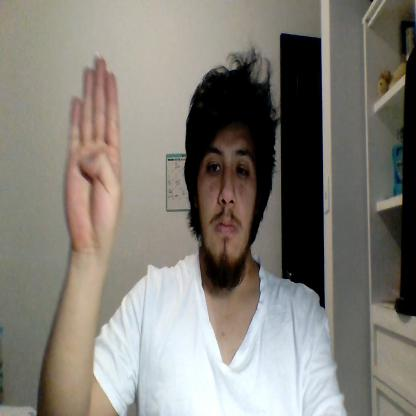B: (62, 55, 123, 252)
